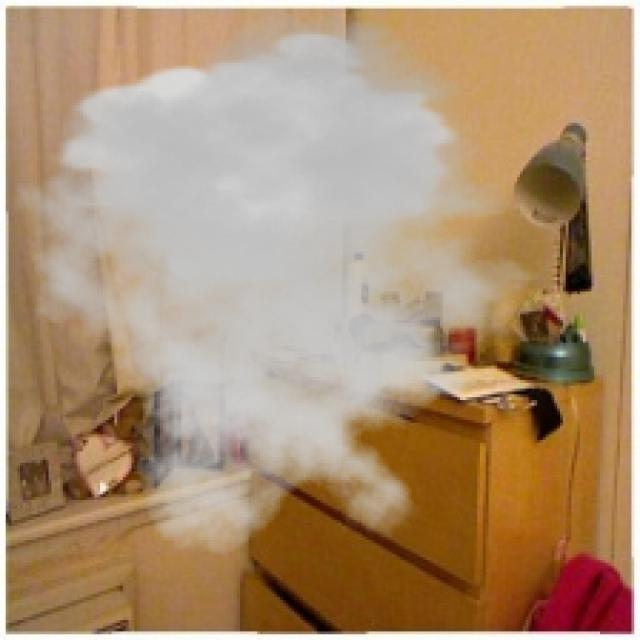smoke: (3, 12, 566, 557)
